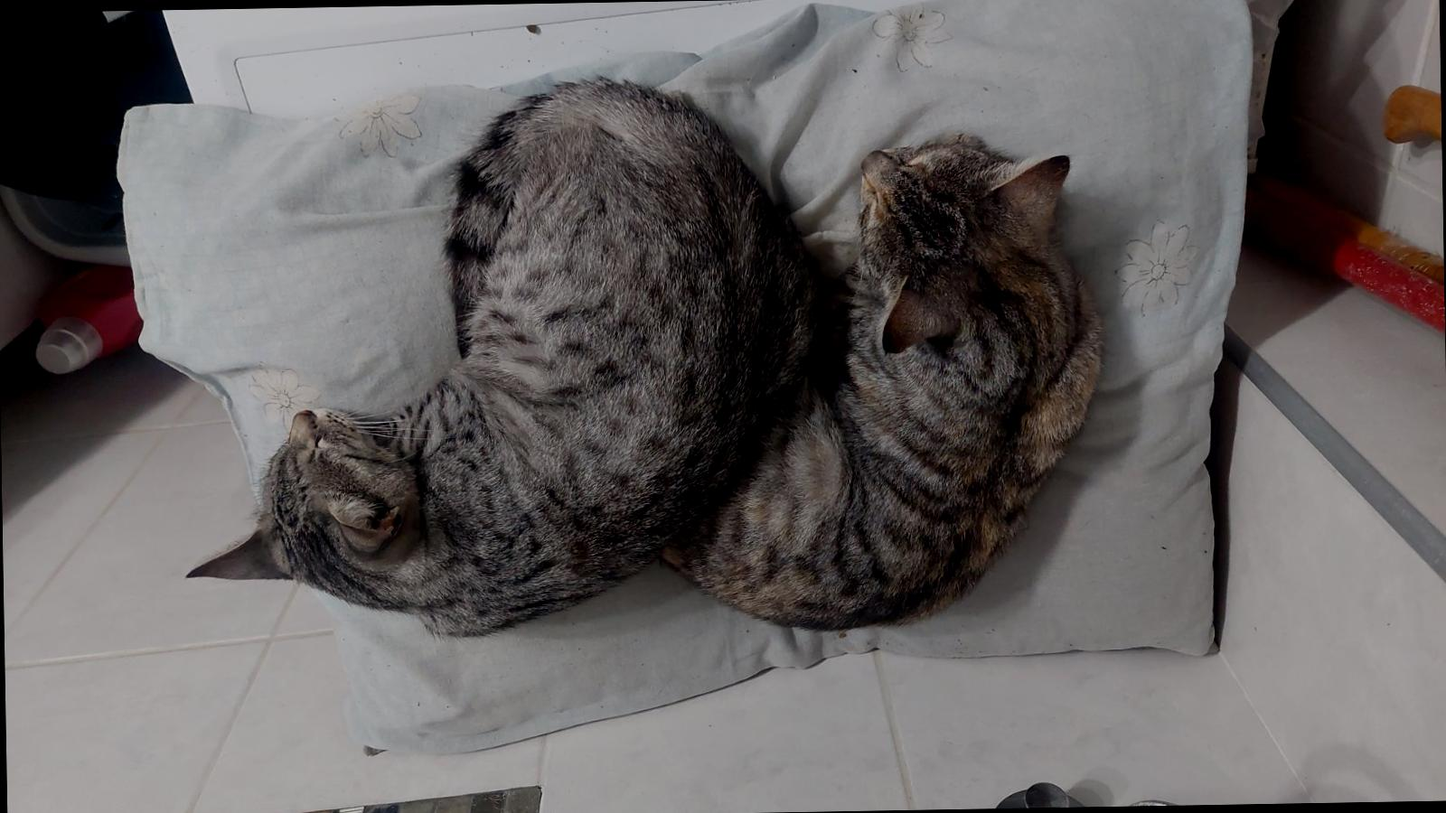macka: (179, 75, 823, 643), (646, 135, 1104, 633)
